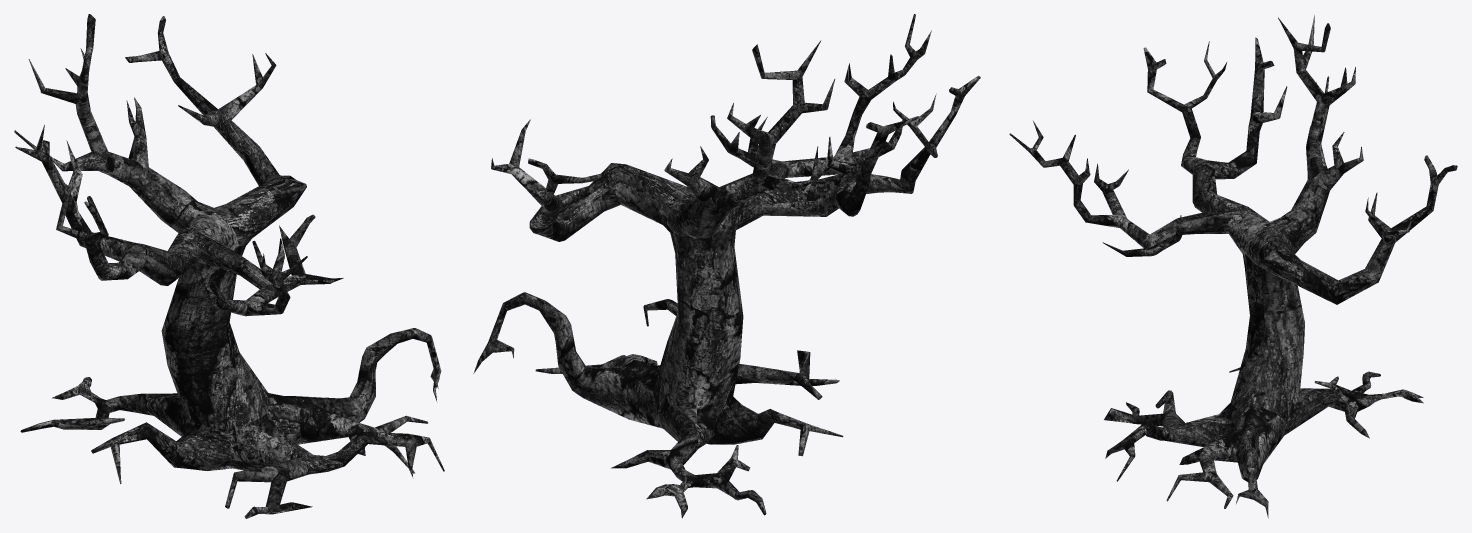
Rendered from DeadTree.fbx.
The picture shows the model from 3 angles, left to right: view 1: azimuth 30°, elevation 25°; view 2: azimuth 150°, elevation 25°; view 3: azimuth 270°, elevation 25°; orthographic projection. The views are drawn at different scales.
Visible parts, largest first — view 1: DeadTree; view 2: DeadTree; view 3: DeadTree.
Boxes of the visible parts, x1=… form: DeadTree: x1=14, y1=14, x2=444, y2=518; DeadTree: x1=473, y1=14, x2=980, y2=518; DeadTree: x1=1009, y1=15, x2=1457, y2=518.
Bounding box in the file's own units: 4.92 × 4.88 × 5.19.
